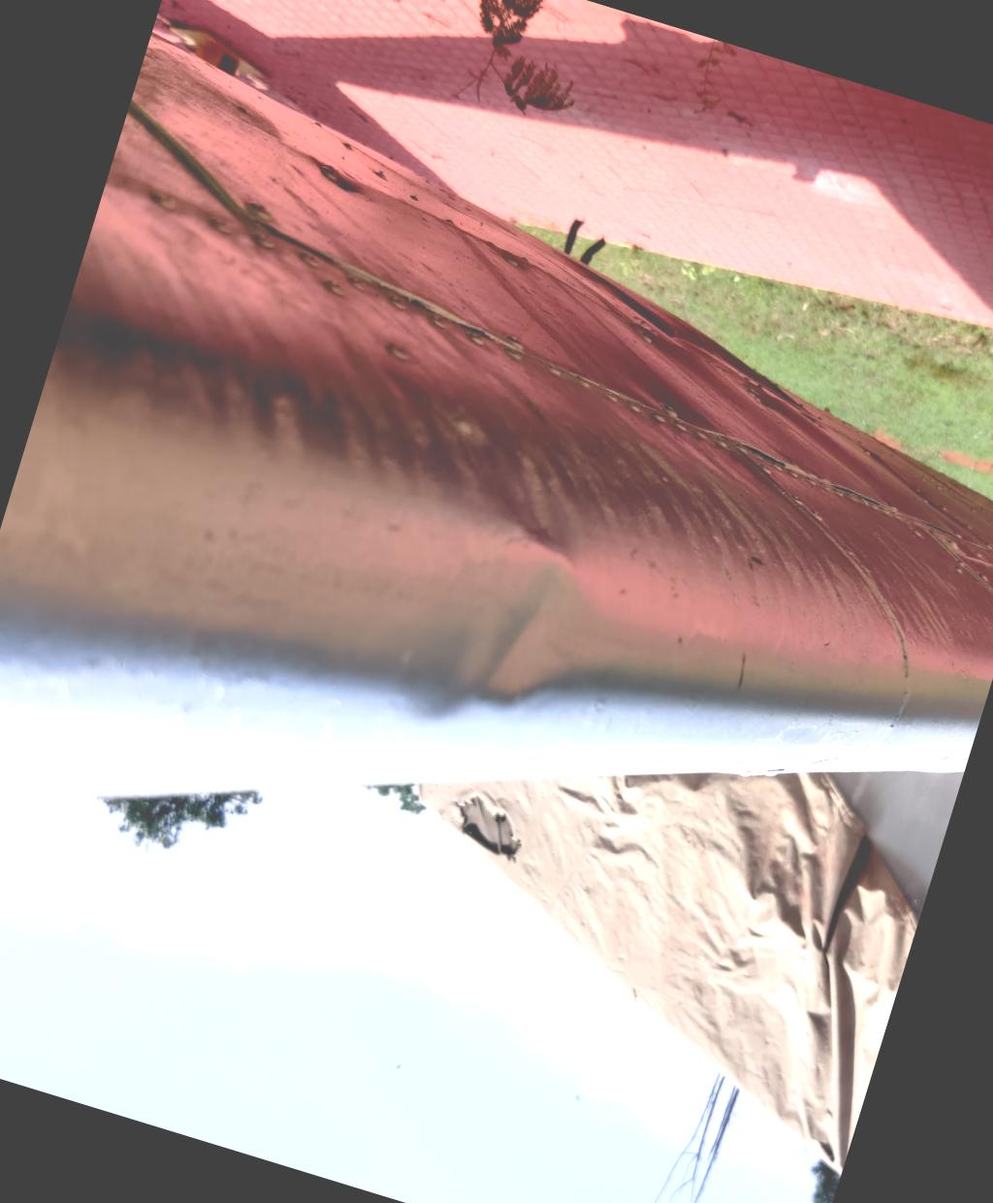dent: (351, 488, 639, 807)
